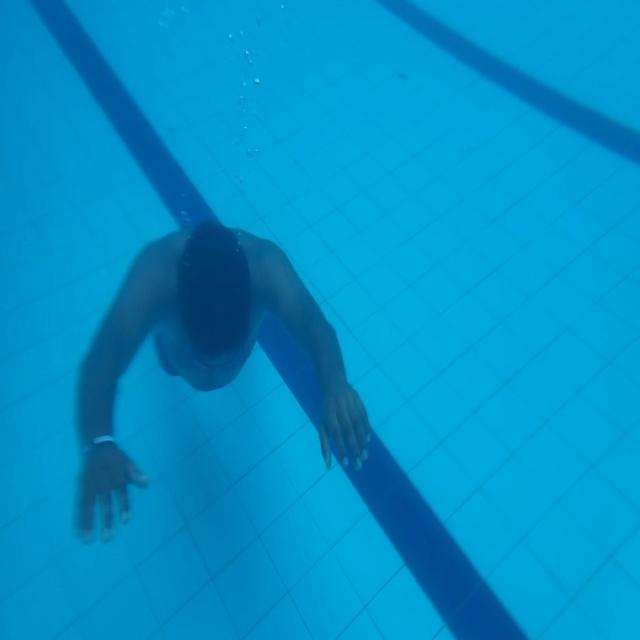Drowning: (72, 218, 372, 544)
